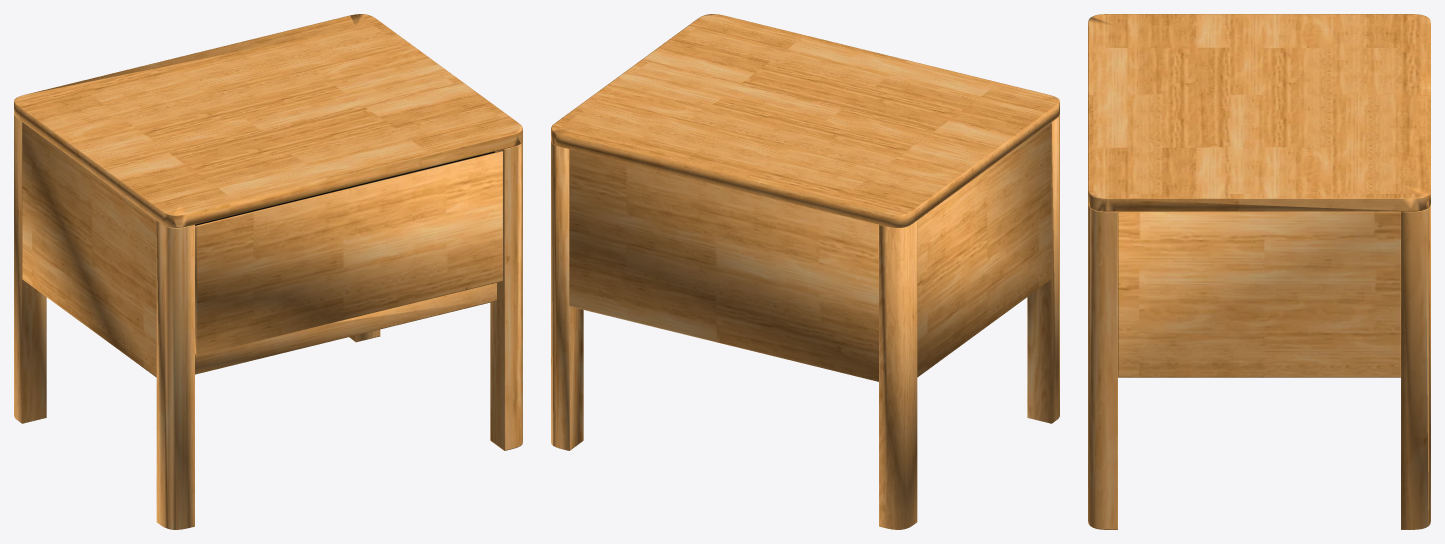
File: B07K7K7GTZ.glb
3 views of the same model, side by side, from view 1: azimuth 30°, elevation 25°; view 2: azimuth 150°, elevation 25°; view 3: azimuth 270°, elevation 25° (orthographic). The views are drawn at different scales.
Visible parts, largest first — view 1: B07K7K7GTZ; view 2: B07K7K7GTZ; view 3: B07K7K7GTZ.
Part boxes in pixels (x1,y1,x2,y2): B07K7K7GTZ: (14, 14, 522, 529); B07K7K7GTZ: (551, 14, 1059, 529); B07K7K7GTZ: (1088, 14, 1430, 529).
Bounding box in the file's own units: 0.5598 × 0.4699 × 0.4399.
Materials: 1 (1 with a texture image).
